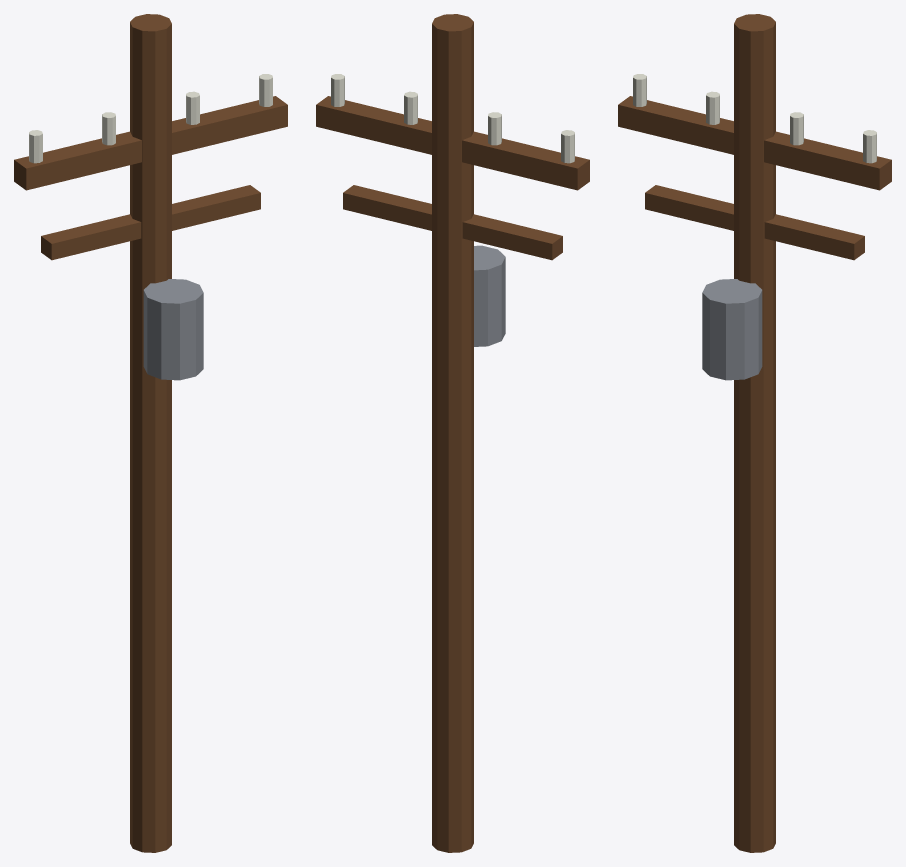
The model's file is utility_pole.obj.
The picture shows the model from 3 angles, left to right: view 1: azimuth 30°, elevation 25°; view 2: azimuth 150°, elevation 25°; view 3: azimuth 330°, elevation 25°; orthographic projection.
Parts seen in each view (by area): view 1: utility_pole; view 2: utility_pole; view 3: utility_pole.
Boxes of the visible parts, left/top/right/bottom form: utility_pole: left=14, top=14, right=287, bottom=852; utility_pole: left=316, top=14, right=589, bottom=852; utility_pole: left=618, top=14, right=891, bottom=852.
Bounding box in the file's own units: 5 × 15 × 1.56.
